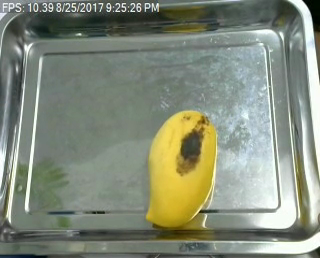Mango: (147, 108, 217, 226)
